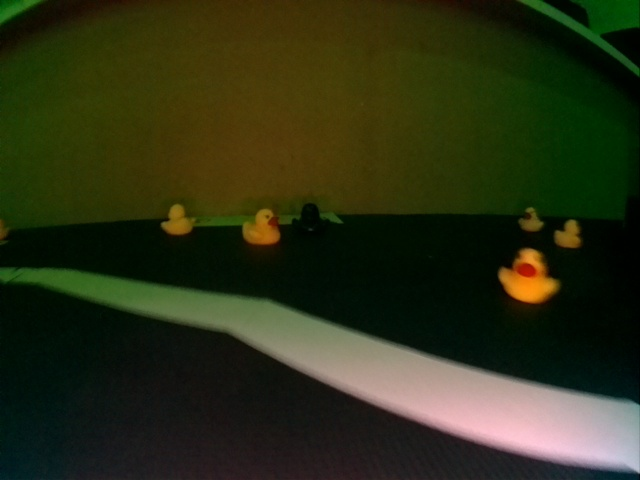Duckie: (498, 248, 558, 300), (242, 208, 279, 244), (161, 206, 193, 235), (556, 223, 581, 246), (520, 206, 541, 230)
